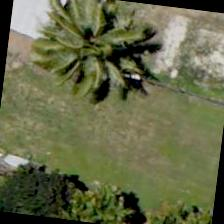Kelapa_Sawit: (37, 0, 138, 91)
